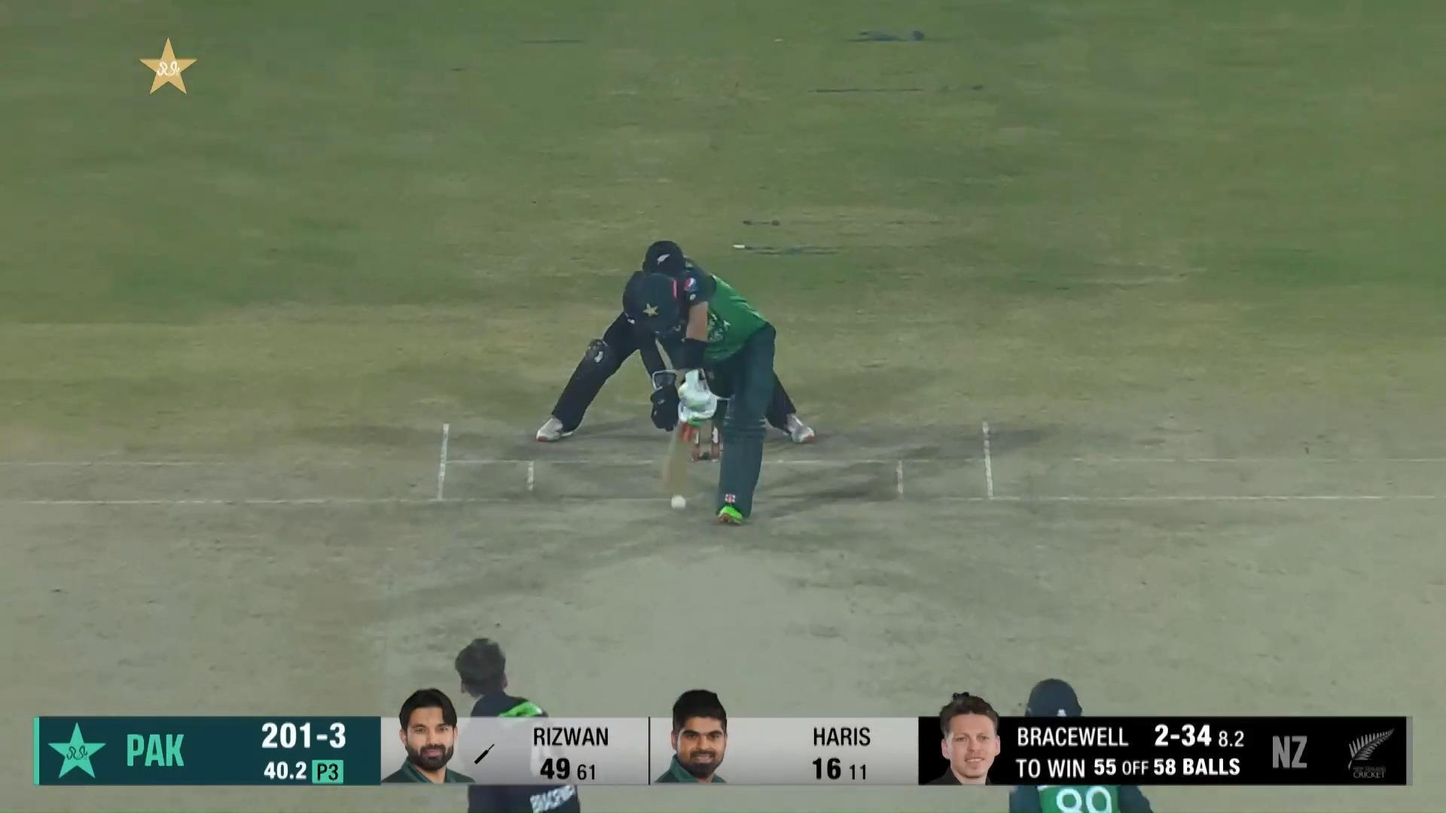BM 1: (623, 263, 779, 525)
BO: (451, 635, 584, 813)
